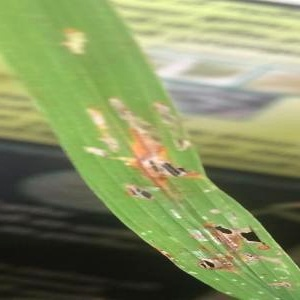Brown_Spot: (201, 210, 271, 257), (145, 94, 197, 155), (176, 247, 247, 284), (126, 154, 192, 187), (118, 174, 163, 209)
